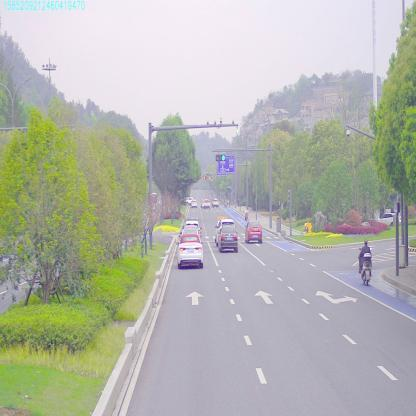traffic-light: (216, 153, 228, 160)
